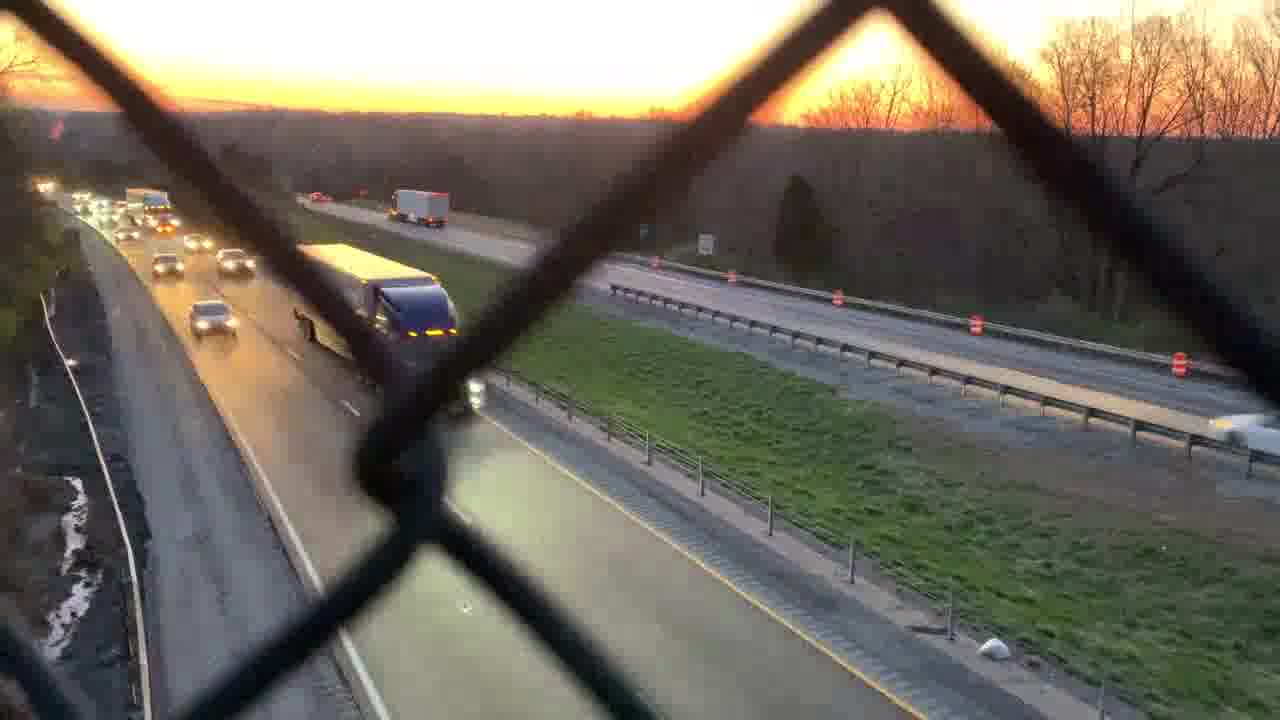heavyTruck: (289, 237, 498, 427), (123, 185, 180, 231), (387, 190, 454, 227)
smallCar: (188, 298, 238, 340)
